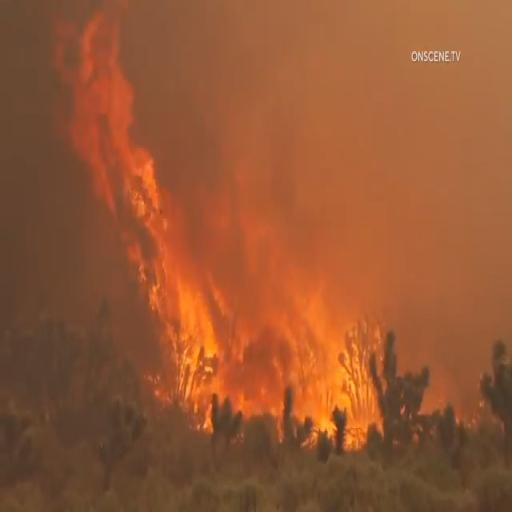fire: (118, 142, 406, 452), (50, 16, 222, 408)
